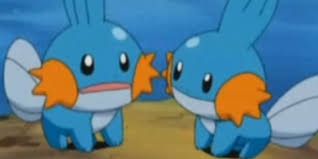mudkip: (160, 1, 318, 158), (1, 1, 159, 154)
